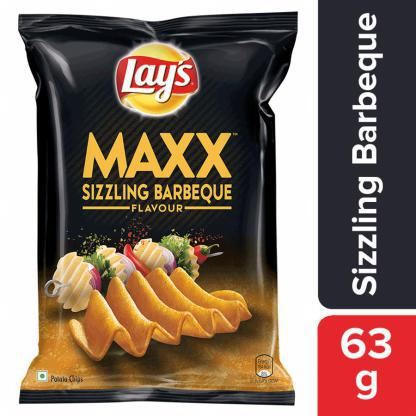maxx_sizzling_barbeque: (18, 15, 297, 401)
